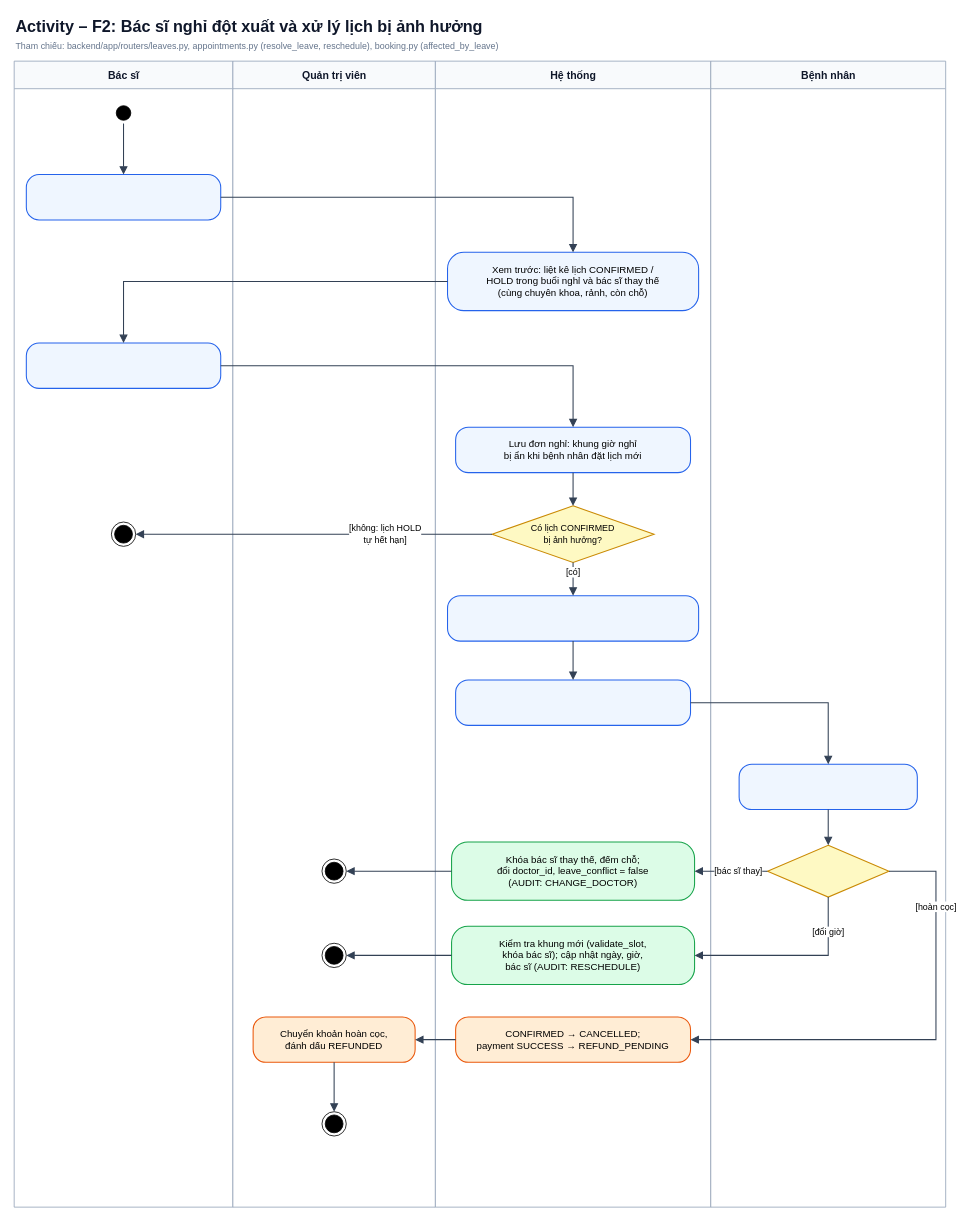
This 970x1221 diagram has some shape labels left out. Here are the shapes that lost their labels. From the top down, the centre of each, then its label:
At pixel 123 197: "Đăng ký nghỉ: chọn ngày và buổi (sáng / chiều / cả ngày)".
At pixel 123 365: "Xem danh sách bệnh nhân bị ảnh hưởng, xác nhận nghỉ".
At pixel 573 618: "Đánh dấu leave_conflict, gợi ý bác sĩ thay thế; ghi AUDIT_LOGS (LEAVE_CONFLICT)".
At pixel 573 702: "Gửi email cho từng bệnh nhân: nhận bác sĩ thay / đổi giờ / hoàn cọc".
At pixel 827 786: "Mở lịch hẹn, chọn một phương án".
At pixel 828 870: "Phương án?".
